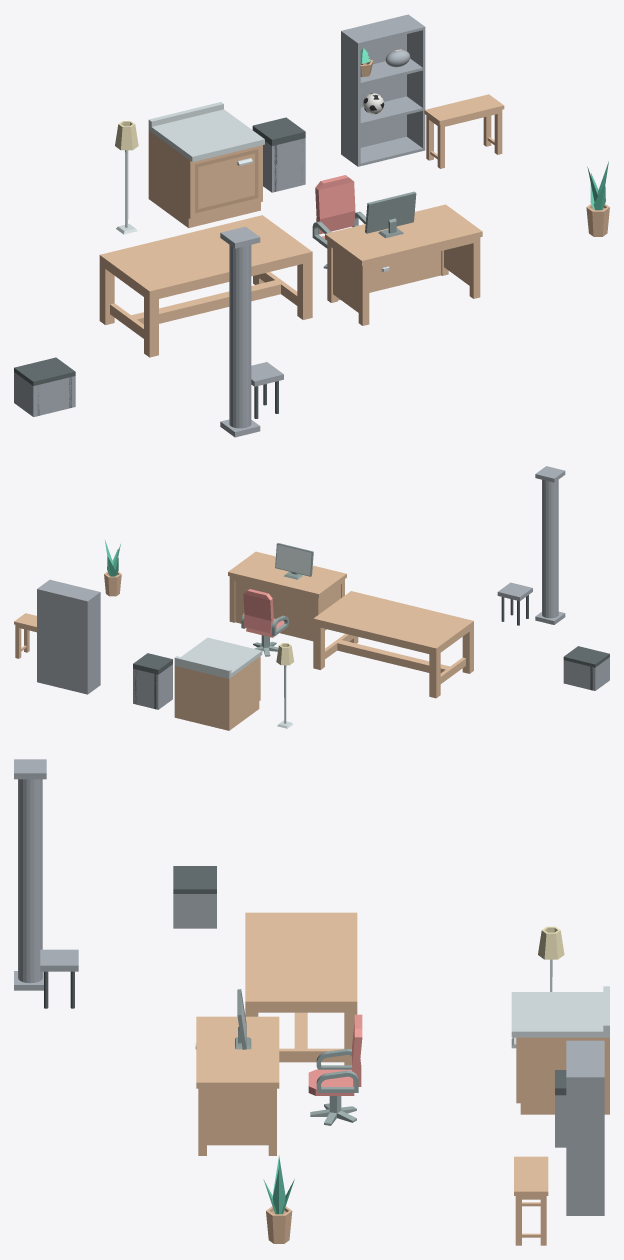
3 renders of one model, top to bottom at view 1: azimuth 30°, elevation 25°; view 2: azimuth 150°, elevation 25°; view 3: azimuth 270°, elevation 25°, orthographic. The views are drawn at different scales.
Visible parts, largest first — view 1: table_green__table(Clone), desk_blue__desk(Clone), cabinet_blue__kitchenCabinet(Clone), column_cyan__column_cyan shaft, cabinet_blue__door, sidetable_brown__sideTable(Clone), shelf_orange__shelf_orange back, shelf_orange__shelf_orange side_l, deskchair_black__chair, bin_gray__bin_gray shell, crate_red__crate_red shell, shelf_orange__shelf_orange side_r (+11 smaller); view 2: table_green__table(Clone), cabinet_blue__kitchenCabinet(Clone), desk_blue__desk(Clone), shelf_orange__shelf_orange back, column_cyan__column_cyan shaft, deskchair_black__chair, shelf_orange__shelf_orange side_l, bin_gray__bin_gray shell, crate_red__crate_red shell, monitor_gray__computerScreen(Clone), sidetable_brown__sideTable(Clone), crate_red__crate_red lid (+5 smaller); view 3: table_green__table(Clone), desk_blue__desk(Clone), cabinet_blue__kitchenCabinet(Clone), shelf_orange__shelf_orange side_r, column_cyan__column_cyan shaft, sidetable_brown__sideTable(Clone), deskchair_black__chair, crate_red__crate_red shell, shelf_orange__shelf_orange board3, crate_red__crate_red lid, stool_purple__stool_purple seat, lamp_white__lampRoundFloor(Clone) (+4 smaller).
Boxes of the visible parts, x1,y1,x2,y2 form: table_green__table(Clone): (99,215,312,357); desk_blue__desk(Clone): (325,204,482,325); cabinet_blue__kitchenCabinet(Clone): (148,102,264,227); column_cyan__column_cyan shaft: (229,245,251,428); cabinet_blue__door: (195,149,258,213); sidetable_brown__sideTable(Clone): (424,94,504,168); shelf_orange__shelf_orange back: (344,15,406,147); shelf_orange__shelf_orange side_l: (341,30,360,166); deskchair_black__chair: (312,175,366,248); bin_gray__bin_gray shell: (263,138,305,192); crate_red__crate_red shell: (14,372,75,416); shelf_orange__shelf_orange side_r: (406,14,425,150); table_green__table(Clone): (313,591,473,698); cabinet_blue__kitchenCabinet(Clone): (174,637,262,730); desk_blue__desk(Clone): (228,551,346,641); shelf_orange__shelf_orange back: (38,589,86,693); column_cyan__column_cyan shaft: (542,480,558,618); deskchair_black__chair: (241,589,288,637); shelf_orange__shelf_orange side_l: (86,591,100,694); bin_gray__bin_gray shell: (133,664,172,709); crate_red__crate_red shell: (563,657,609,690); monitor_gray__computerScreen(Clone): (275,543,313,579); sidetable_brown__sideTable(Clone): (14,613,36,658); crate_red__crate_red lid: (563,646,609,667); table_green__table(Clone): (245,912,357,1065); desk_blue__desk(Clone): (196,1016,279,1155); cabinet_blue__kitchenCabinet(Clone): (511,986,609,1114); shelf_orange__shelf_orange side_r: (566,1076,604,1215); column_cyan__column_cyan shaft: (18,779,42,983); sidetable_brown__sideTable(Clone): (514,1156,548,1245); deskchair_black__chair: (308,1014,362,1095); crate_red__crate_red shell: (173,894,216,928); shelf_orange__shelf_orange board3: (566,1042,602,1075); crate_red__crate_red lid: (173,866,216,893); stool_purple__stool_purple seat: (40,949,78,971); lamp_white__lampRoundFloor(Clone): (538,926,564,991).
Bounding box in the file's own units: 7.39 × 2.2 × 5.46.
